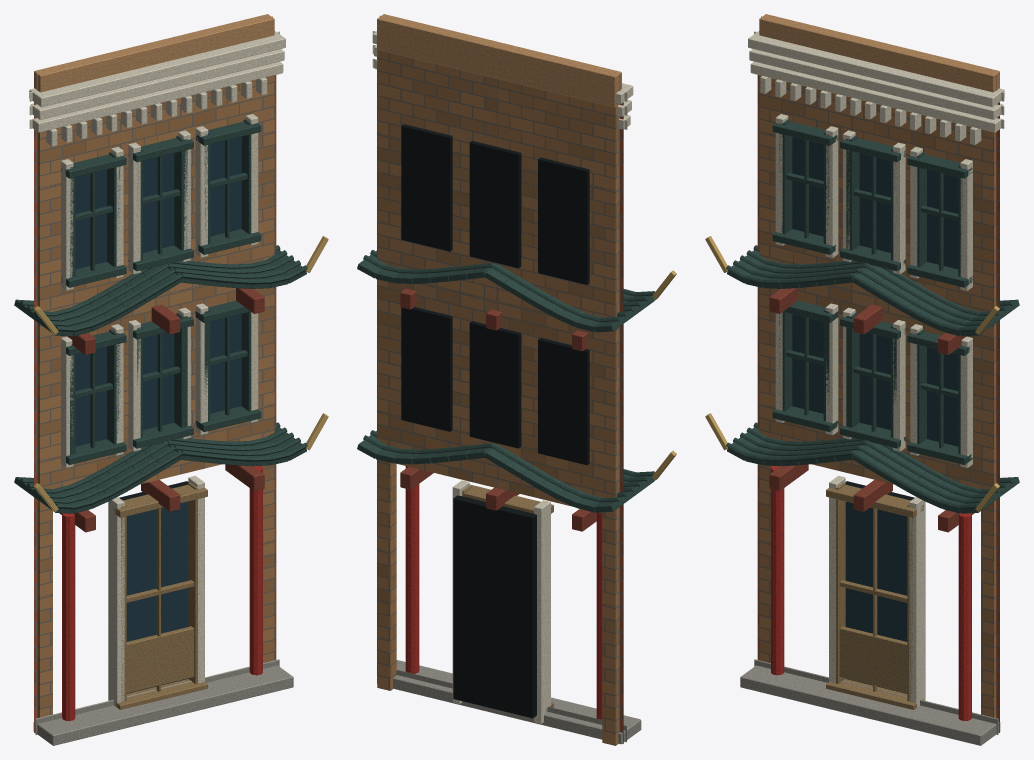
Rendered from CHINA15_lod1.glb.
3 renders of one model, left to right at view 1: azimuth 30°, elevation 25°; view 2: azimuth 150°, elevation 25°; view 3: azimuth 330°, elevation 25°, orthographic.
Parts seen in each view (by area): view 1: CHINA15_FRONT_LOD1; view 2: CHINA15_FRONT_LOD1; view 3: CHINA15_FRONT_LOD1.
Part boxes in pixels (x1,y1,x2,y2): CHINA15_FRONT_LOD1: (14,14,328,745); CHINA15_FRONT_LOD1: (357,14,676,745); CHINA15_FRONT_LOD1: (705,14,1019,745).
Bounding box in the file's own units: 4.49 × 9.66 × 1.13.
13 materials, 10 textured.
